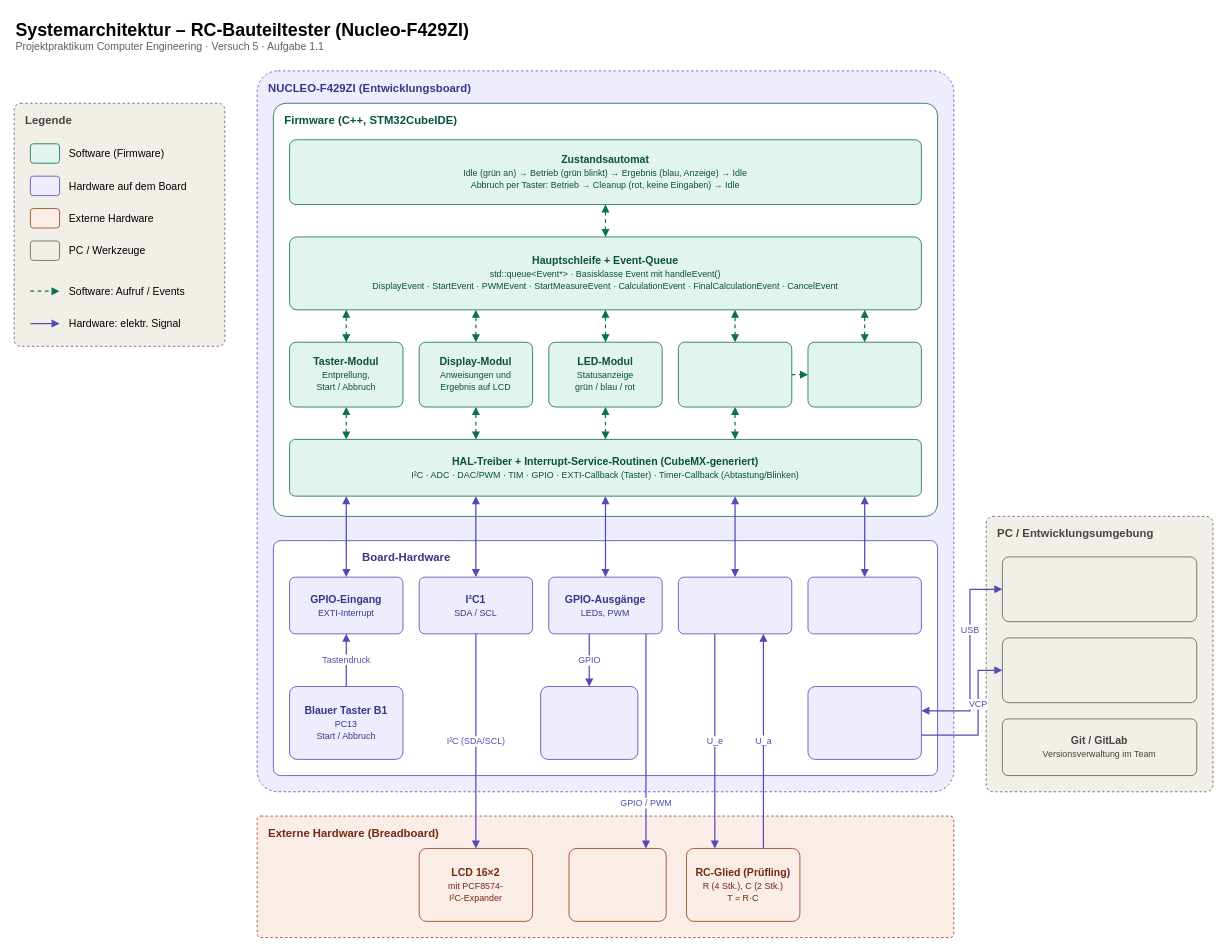
This 1227x952 diagram has some shape labels left out. The centre of each missing label's shape, as x and y in pixels:
Berechnungs-Modul τ = R·C, Ausreißer, Mittelwert, Vergleich: the point at 864,374
DAC + ADC U_e ausgeben, U_a messen: the point at 735,605
Mess-Modul Sprung ausgeben, Messreihe aufnehmen: the point at 735,374
Onboard-LEDs LD1 grün (PB0) LD2 blau (PB7) LD3 rot (PB14): the point at 589,722
RGB-LED-Modul optionale Statusanzeige: the point at 617,884
Serielle Konsole printf-Debugausgabe: the point at 1099,670
ST-LINK/V2-1 USB · SWD virtueller COM-Port: the point at 864,722
STM32CubeIDE Build · Flashen · Debuggen: the point at 1099,589
Timer (TIM) Zeitbasis, Abtastrate: the point at 864,605
